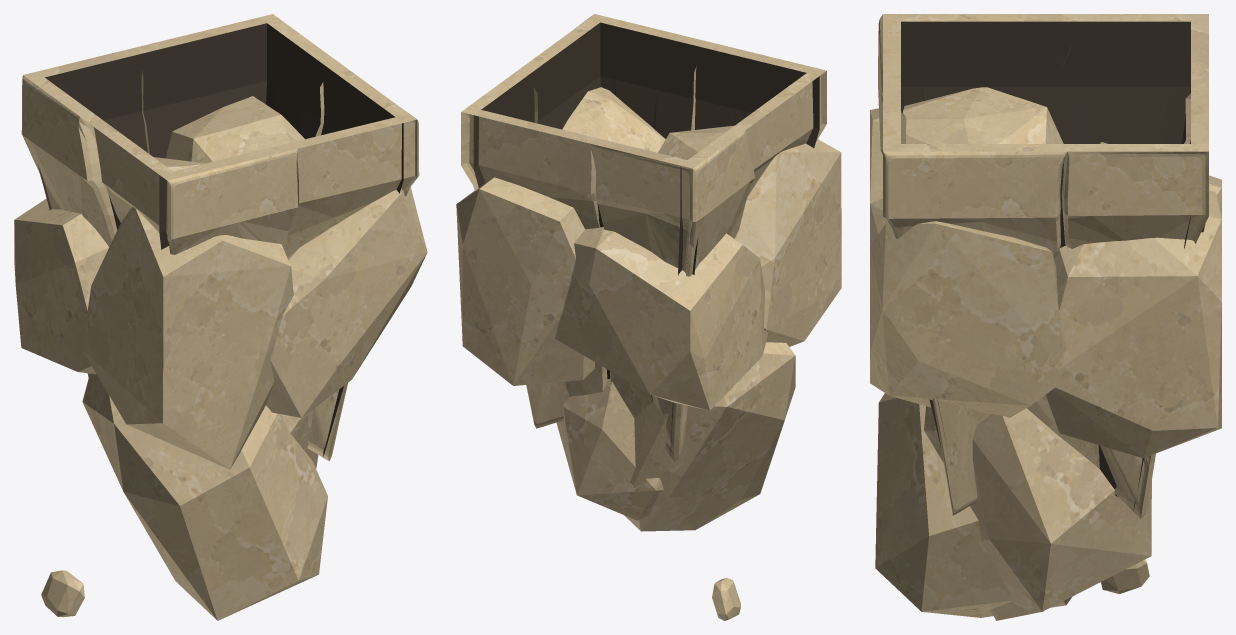
Rendered from ground_bottom_square_island_04.glb.
3 renders of one model, left to right at view 1: azimuth 30°, elevation 25°; view 2: azimuth 150°, elevation 25°; view 3: azimuth 270°, elevation 25°, orthographic. The views are drawn at different scales.
Parts seen in each view (by area): view 1: GroundBottomSquareIsland04_Body; view 2: GroundBottomSquareIsland04_Body; view 3: GroundBottomSquareIsland04_Body.
Boxes of the visible parts, x1,y1,x2,y2 form: GroundBottomSquareIsland04_Body: (14, 14, 427, 620); GroundBottomSquareIsland04_Body: (456, 14, 841, 620); GroundBottomSquareIsland04_Body: (870, 14, 1221, 620).
Size of the model in its own units: 1.08 by 1.96 by 1.08.
Materials: 17 (16 with a texture image).
